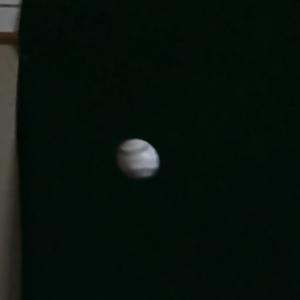ball: (115, 138, 162, 183)
